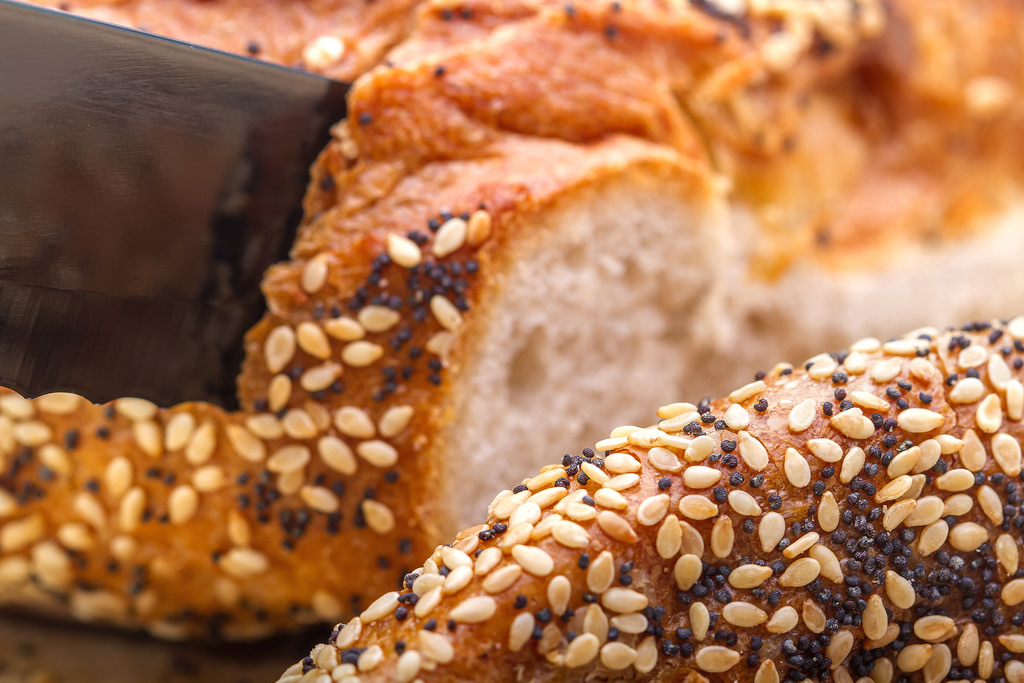slice of bread: (265, 241, 1024, 678)
